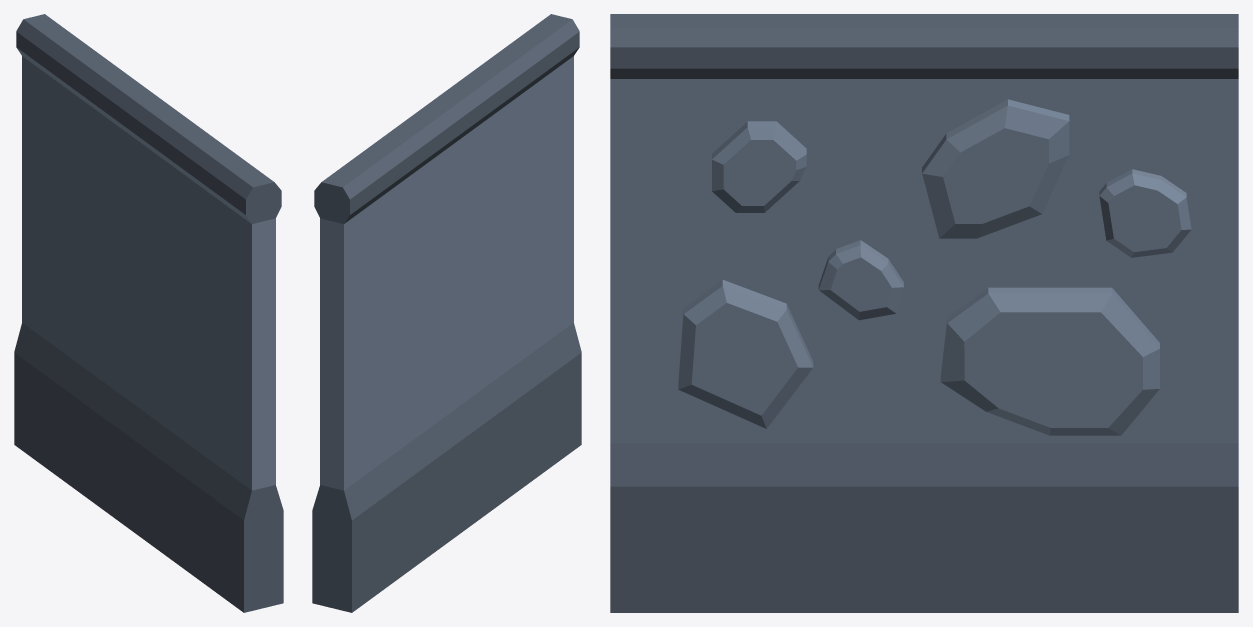
Rendered from WallPlain01.fbx.
3 views of the same model, side by side, from view 1: azimuth 30°, elevation 25°; view 2: azimuth 150°, elevation 25°; view 3: azimuth 270°, elevation 25° (orthographic). The views are drawn at different scales.
Parts seen in each view (by area): view 1: Plane; view 2: Plane; view 3: Plane.
Part boxes in pixels (x1,y1,x2,y2): Plane: (14, 14, 283, 612); Plane: (312, 14, 581, 612); Plane: (610, 14, 1238, 612).
Bounding box in the file's own units: 95.92 × 813 × 800.
1 material, 1 textured.
